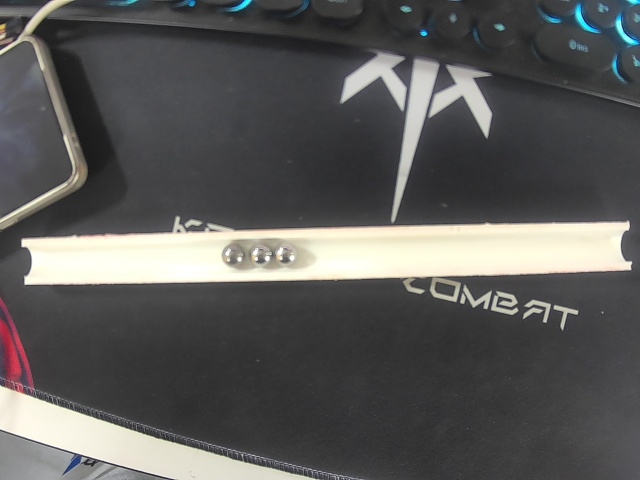steelball: (221, 243, 246, 266), (250, 244, 273, 266), (275, 244, 297, 266)
